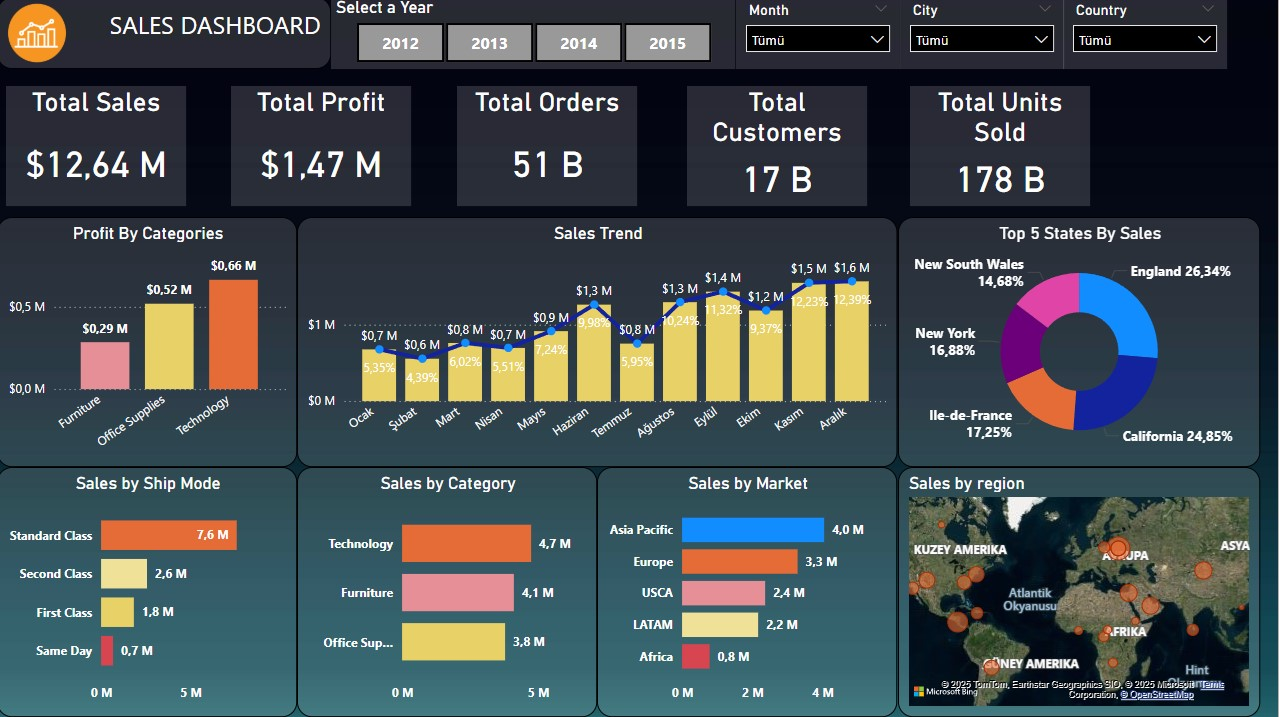

The dashboard page shown, as its layout file describes it:
{"tool":"powerbi","page":{"name":"Sales Dashboard","canvas":[1280,720],"ordinal":0},"visuals":[{"type":"textbox","box":[0,0,334.2,72],"z":0},{"type":"slicer","fields":{"Values":["Orders.City"]},"box":[902,0,164,72],"z":1000},{"type":"slicer","title":"Month","fields":{"Values":["Orders.Order Date.Varyasyon.Tarih Hiyerarşisi.Ay"]},"box":[738,0,164,72],"z":2000},{"type":"slicer","fields":{"Values":["Orders.Country"]},"box":[1065.7,0,164,72.5],"z":3000},{"type":"clusteredBarChart","title":"Sales by Ship Mode","fields":{"Category":["Orders.Ship Mode"],"Y":["Sum(Orders.Sales)"]},"box":[0,470,300,250],"z":4000},{"type":"clusteredBarChart","title":"Sales by Category","fields":{"Y":["Sum(Orders.Sales)"],"Category":["Orders.Category"]},"box":[300,470,300,250],"z":5000},{"type":"clusteredBarChart","title":"Sales by Market","fields":{"Y":["Sum(Orders.Sales)"],"Category":["Orders.Market"]},"box":[600,470,300,250],"z":6000},{"type":"map","title":"Sales by region","fields":{"Size":["Olculer.TotalSales"],"Category":["Orders.Region"]},"box":[900,470,362,250],"z":7000},{"type":"lineClusteredColumnComboChart","title":"Sales Trend","fields":{"Category":["Orders.Order Date.Varyasyon.Tarih Hiyerarşisi.Yıl","Orders.Order Date.Varyasyon.Tarih Hiyerarşisi.Çeyrek","Orders.Order Date.Varyasyon.Tarih Hiyerarşisi.Ay","Orders.Order Date.Varyasyon.Tarih Hiyerarşisi.Gün"],"Y":["Olculer.TotalSales"],"Y2":["Divide(Olculer.TotalSales, ScopedEval(Olculer.TotalSales, []))"]},"box":[300,220,600,250],"z":8000},{"type":"clusteredColumnChart","title":"Profit By Categories","fields":{"Category":["Orders.Category"],"Y":["Olculer.Total Profit"]},"box":[0,220,300,250],"z":9000},{"type":"donutChart","title":"Top 5 States By Sales","fields":{"Category":["Orders.State"],"Y":["Olculer.TotalSales"]},"box":[900,220,362,250],"z":10000},{"type":"slicer","title":"Select a Year","fields":{"Values":["Orders.Order Date.Varyasyon.Tarih Hiyerarşisi.Yıl"]},"box":[334,0,404,72],"z":11000},{"type":"image","box":[0,0,80,72],"z":12000},{"type":"card","title":"Total Sales","fields":{"Values":["Olculer.TotalSales"]},"box":[9,89,180,120],"z":13000},{"type":"card","title":"Total Profit","fields":{"Values":["Olculer.Total Profit"]},"box":[234,89,180,120],"z":14000},{"type":"card","title":"Total Orders","fields":{"Values":["Olculer.Total Orders"]},"box":[460,89,180,120],"z":15000},{"type":"card","title":"Total Customers","fields":{"Values":["Olculer.Total Customers"]},"box":[689,89,180,120],"z":16000},{"type":"card","title":"Total Units Sold","fields":{"Values":["Olculer.Total Qty's Sold"]},"box":[912,89,180,120],"z":17000}]}

Visuals, with their boxes in screenshot pixels (x1, y1, x2, y2), scaled from the page's 1280x720 canvas onto the 1279x717 screenshot:
textbox: <bbox>0, 0, 334, 72</bbox>
slicer - Orders.City: <bbox>901, 0, 1065, 72</bbox>
"Month" slicer: <bbox>737, 0, 901, 72</bbox>
slicer - Orders.Country: <bbox>1065, 0, 1229, 72</bbox>
"Sales by Ship Mode" clusteredBarChart: <bbox>0, 468, 300, 716</bbox>
"Sales by Category" clusteredBarChart: <bbox>300, 468, 600, 716</bbox>
"Sales by Market" clusteredBarChart: <bbox>600, 468, 899, 716</bbox>
"Sales by region" map: <bbox>899, 468, 1261, 716</bbox>
"Sales Trend" lineClusteredColumnComboChart: <bbox>300, 219, 899, 468</bbox>
"Profit By Categories" clusteredColumnChart: <bbox>0, 219, 300, 468</bbox>
"Top 5 States By Sales" donutChart: <bbox>899, 219, 1261, 468</bbox>
"Select a Year" slicer: <bbox>334, 0, 737, 72</bbox>
image: <bbox>0, 0, 80, 72</bbox>
"Total Sales" card: <bbox>9, 89, 189, 208</bbox>
"Total Profit" card: <bbox>234, 89, 414, 208</bbox>
"Total Orders" card: <bbox>460, 89, 640, 208</bbox>
"Total Customers" card: <bbox>688, 89, 868, 208</bbox>
"Total Units Sold" card: <bbox>911, 89, 1091, 208</bbox>
